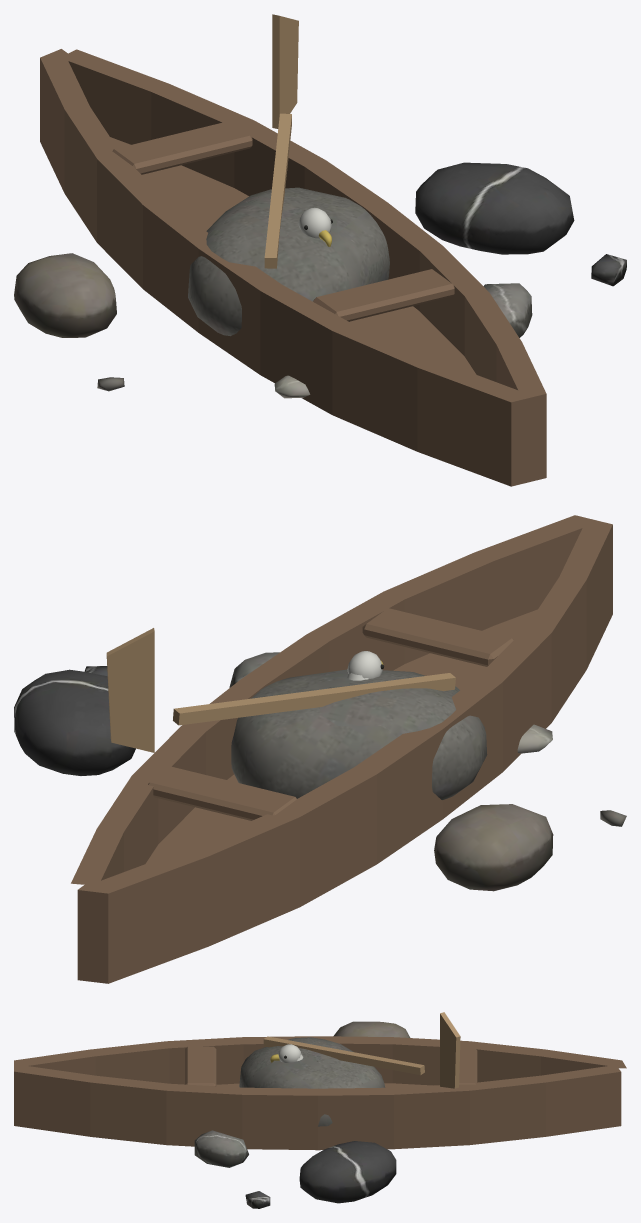
3 views of the same model, one above another, from view 1: azimuth 30°, elevation 25°; view 2: azimuth 150°, elevation 25°; view 3: azimuth 270°, elevation 25° (orthographic). The views are drawn at different scales.
Visible parts, largest first — view 1: canoe, stone_1, osprey; view 2: canoe, stone_1, osprey; view 3: canoe, stone_1, osprey.
Part boxes in pixels (x1,y1,x2,y2): canoe: [40, 14, 546, 486]; stone_1: [14, 162, 626, 398]; osprey: [298, 207, 332, 246]; canoe: [71, 515, 612, 983]; stone_1: [14, 652, 626, 891]; osprey: [347, 651, 383, 680]; canoe: [14, 1012, 626, 1150]; stone_1: [194, 1021, 410, 1208]; osprey: [270, 1044, 303, 1062].
Size of what is drawn, in the model's own units: 2.95 by 1.23 by 4.69.
Materials: 3 (2 with a texture image).
